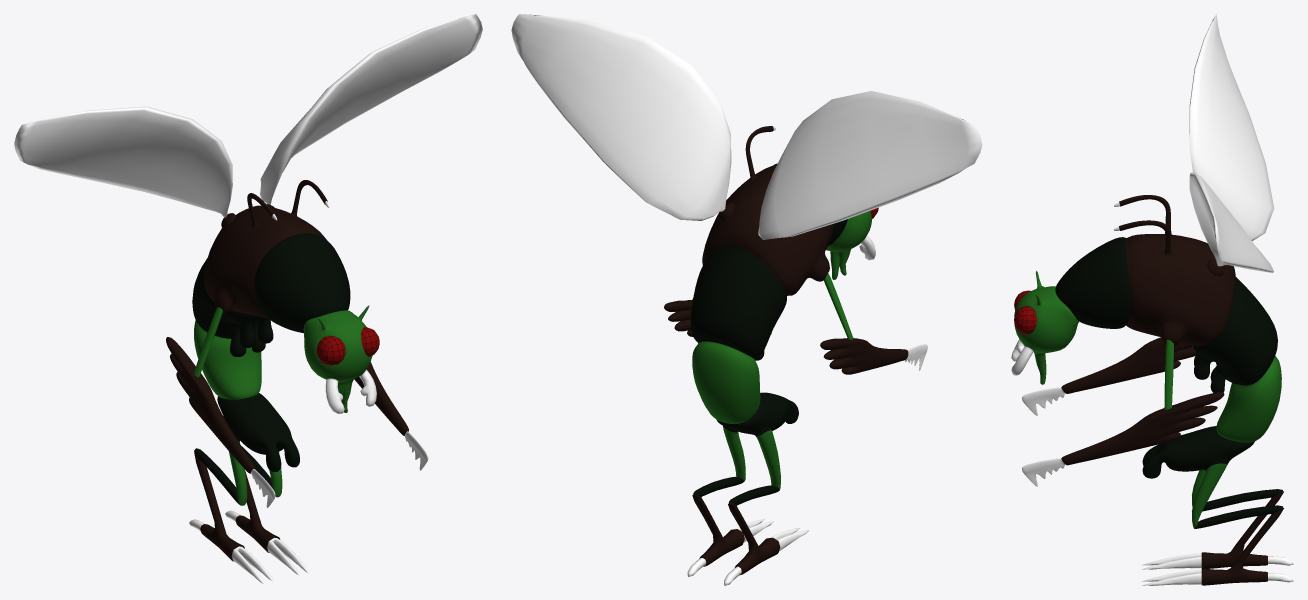
The model's file is gromflomite.obj.
3 views of the same model, side by side, from view 1: azimuth 30°, elevation 25°; view 2: azimuth 150°, elevation 25°; view 3: azimuth 270°, elevation 25° (orthographic). The views are drawn at different scales.
Visible parts, largest first — view 1: cuerpo_polySurface2, polySurface5; view 2: cuerpo_polySurface2; view 3: cuerpo_polySurface2, polySurface5.
Part boxes in pixels (x1=…): cuerpo_polySurface2: x1=14, y1=14, x2=482, y2=585; polySurface5: x1=316, y1=327, x2=379, y2=365; cuerpo_polySurface2: x1=511, y1=14, x2=982, y2=585; cuerpo_polySurface2: x1=1011, y1=14, x2=1293, y2=585; polySurface5: x1=1014, y1=290, x2=1036, y2=334.
Size of the model in its own units: 15.59 by 15.49 by 8.59.
